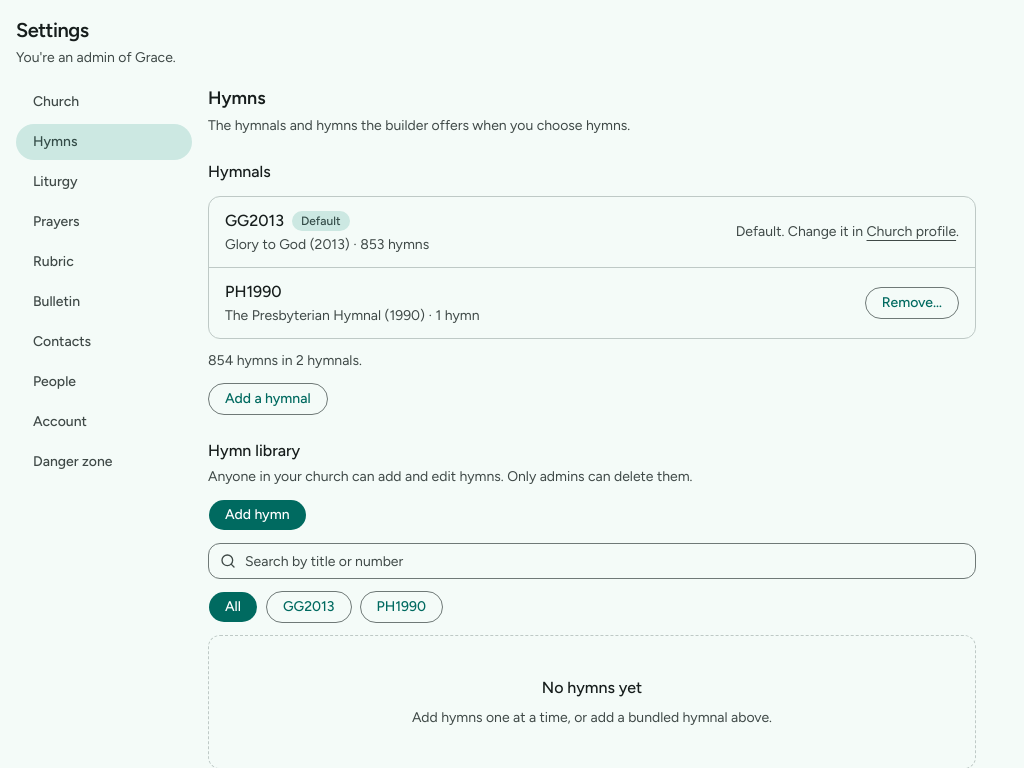
Test case: Settings → Hymns, the Hymnals card (slice 6a-2) › offers Add for a hymnal the church has only a few hand-entered hymns of, and adds the rest (6a-2 build review M4)
This screenshot has width=1024, height=768.
Click the button "Add a hymnal": (268, 399) [208,383,328,415]
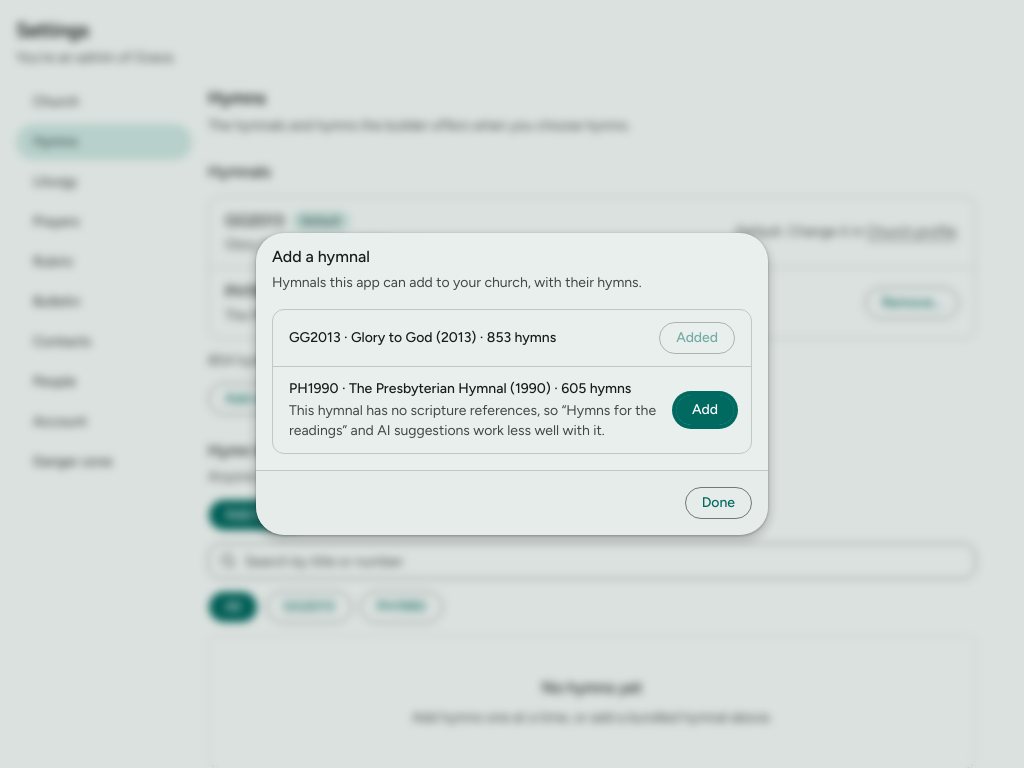
Expected: the button "Added" is disabled, [659,322,735,354]
Click the button with aria-label "Add PH1990": (705, 410) [675,394,735,426]
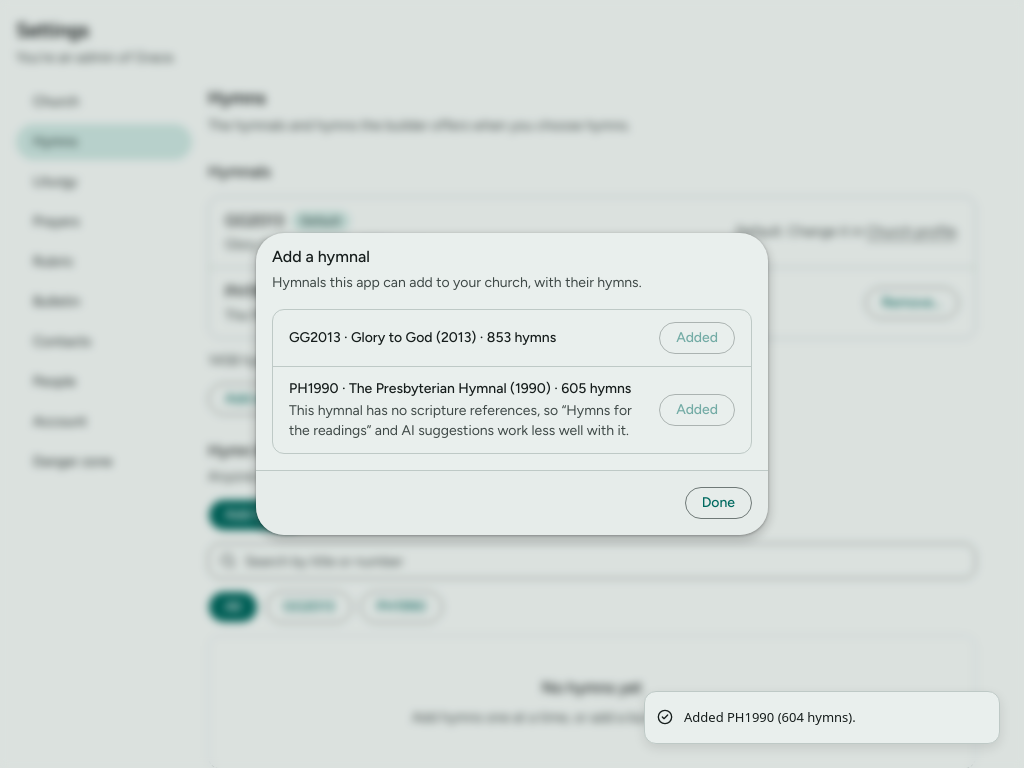
Expected: the text "Added PH1990 (604 hymns)." is shown, [684,708,856,727]
Expected: the 2nd button "Added" is disabled, [659,394,735,426]
